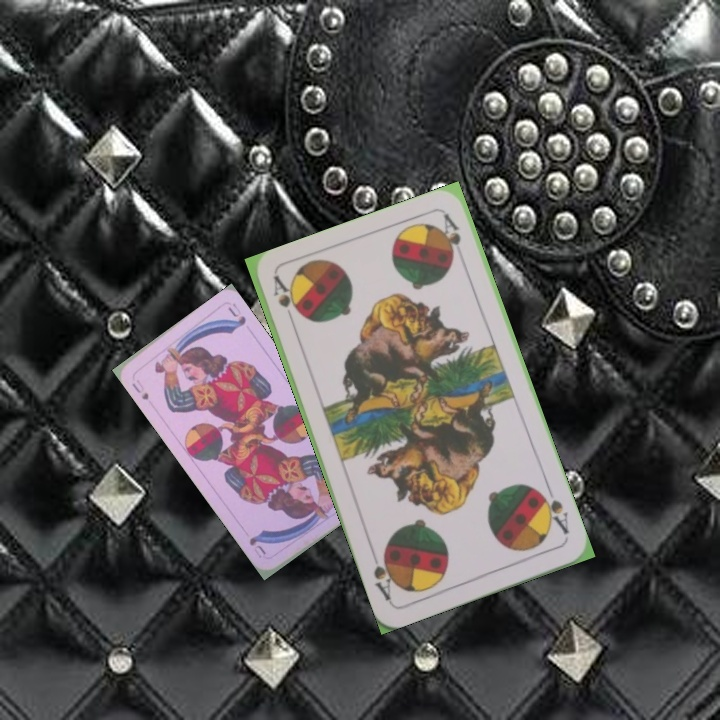SA: (534, 483, 572, 537), (269, 273, 300, 316)
SU: (128, 375, 151, 403)
